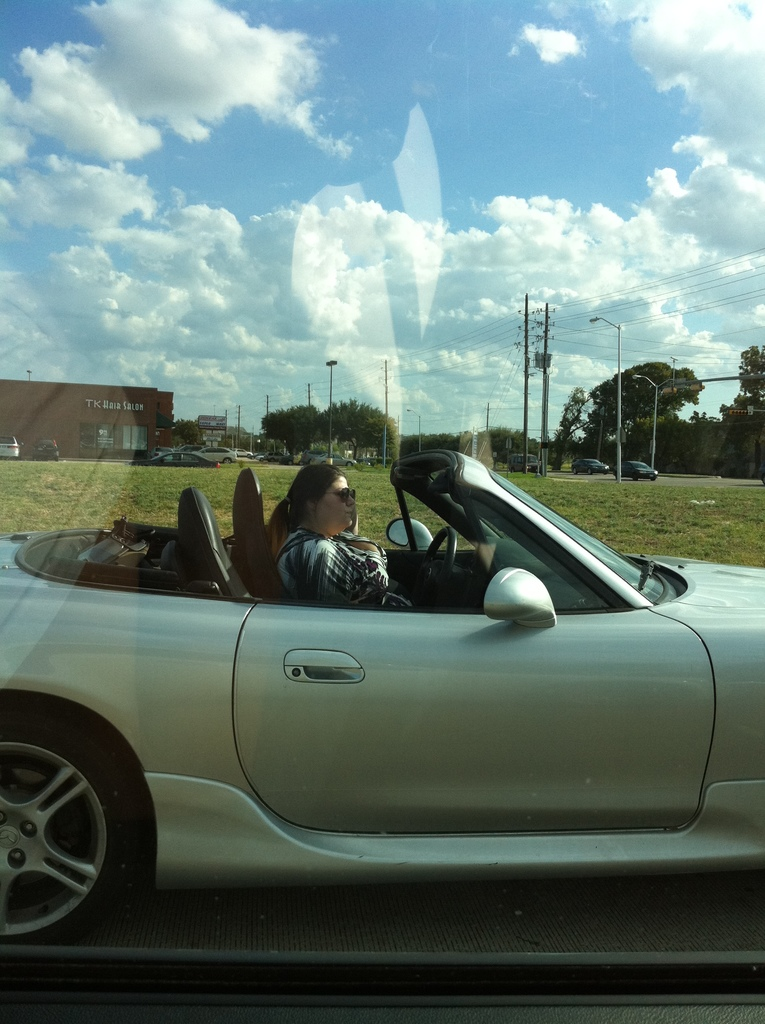Car: (0, 436, 764, 942)
